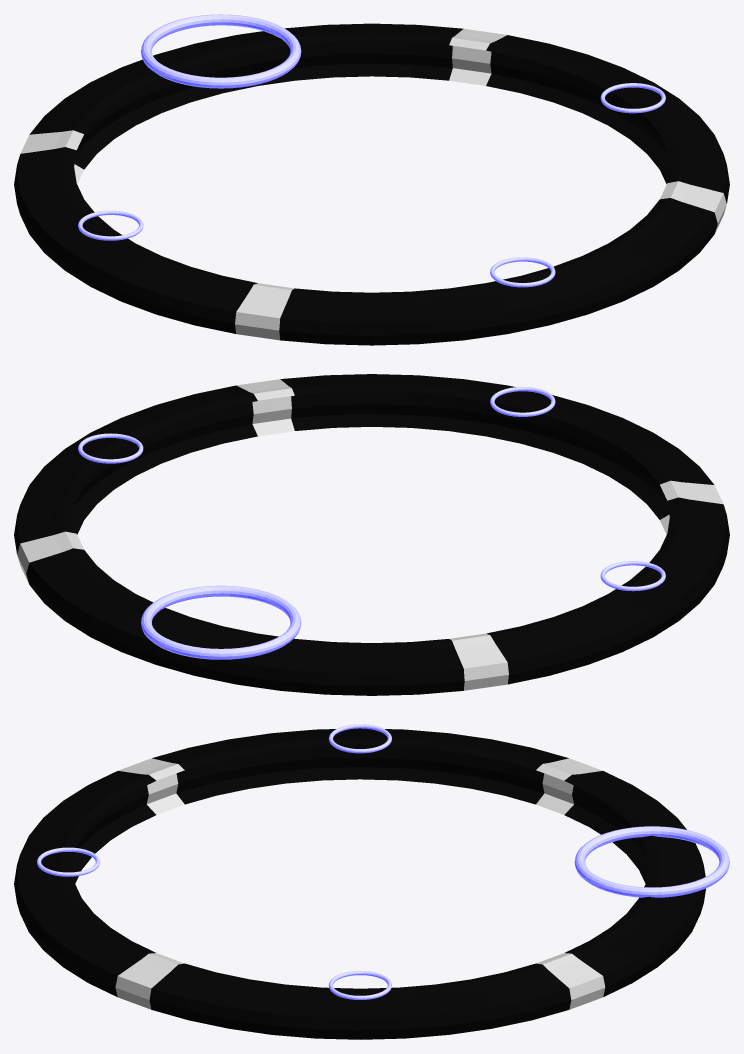
The model's file is Portal_Room.fbx.
3 renders of one model, top to bottom at view 1: azimuth 30°, elevation 25°; view 2: azimuth 150°, elevation 25°; view 3: azimuth 270°, elevation 25°, orthographic. The views are drawn at different scales.
Parts seen in each view (by area): view 1: Portal; view 2: Portal; view 3: Portal.
Boxes of the visible parts, x1,y1,x2,y2 form: Portal: [14, 14, 729, 345]; Portal: [14, 374, 729, 695]; Portal: [14, 724, 729, 1039].
Size of the model in its own units: 475 by 35.21 by 491.
